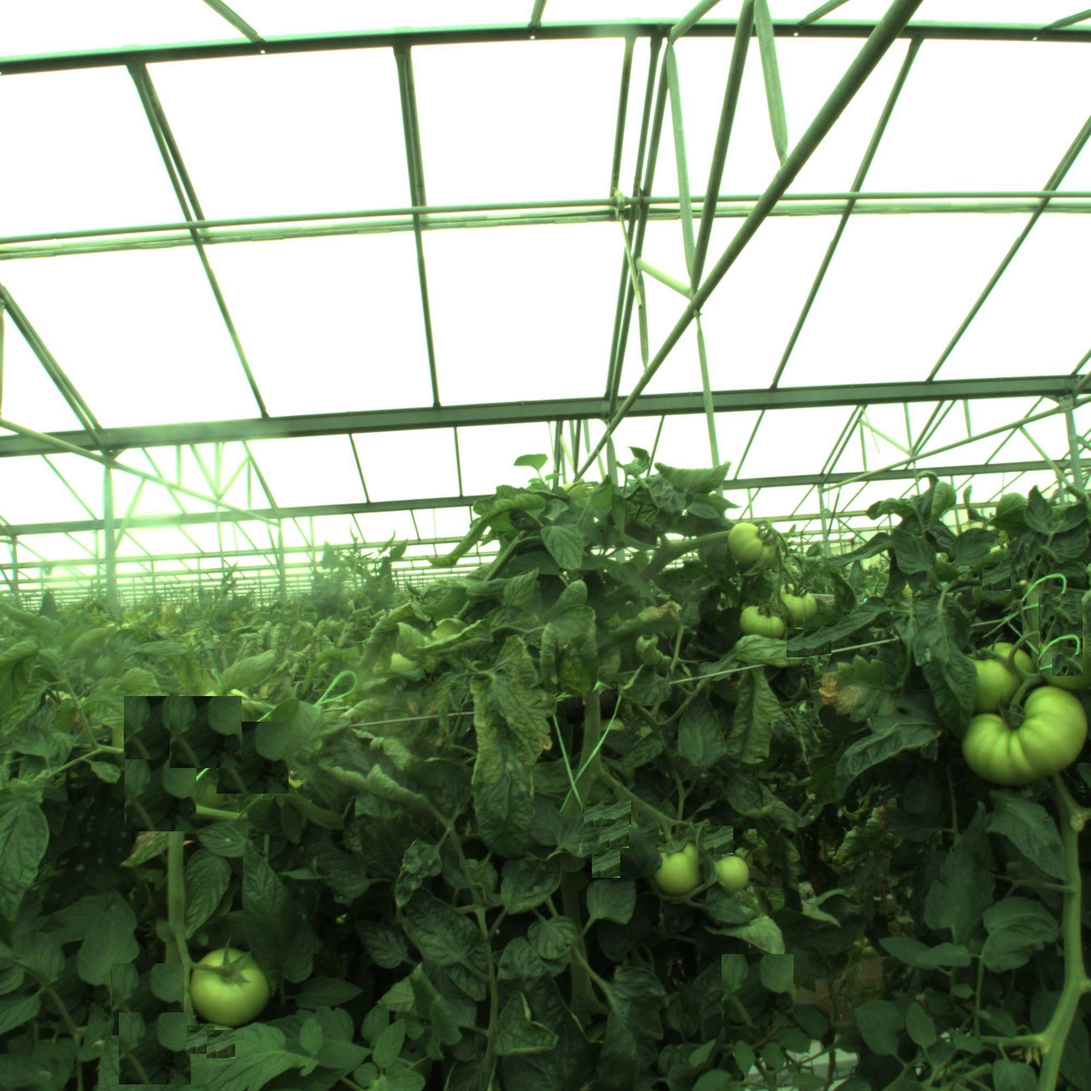['unripe', 'semi-ripe', 'fully-ripe']: (961, 682, 1072, 794), (190, 944, 273, 1027), (954, 636, 1028, 710), (646, 839, 706, 899), (724, 515, 777, 568), (768, 580, 817, 630), (738, 600, 787, 649), (711, 854, 752, 895)
